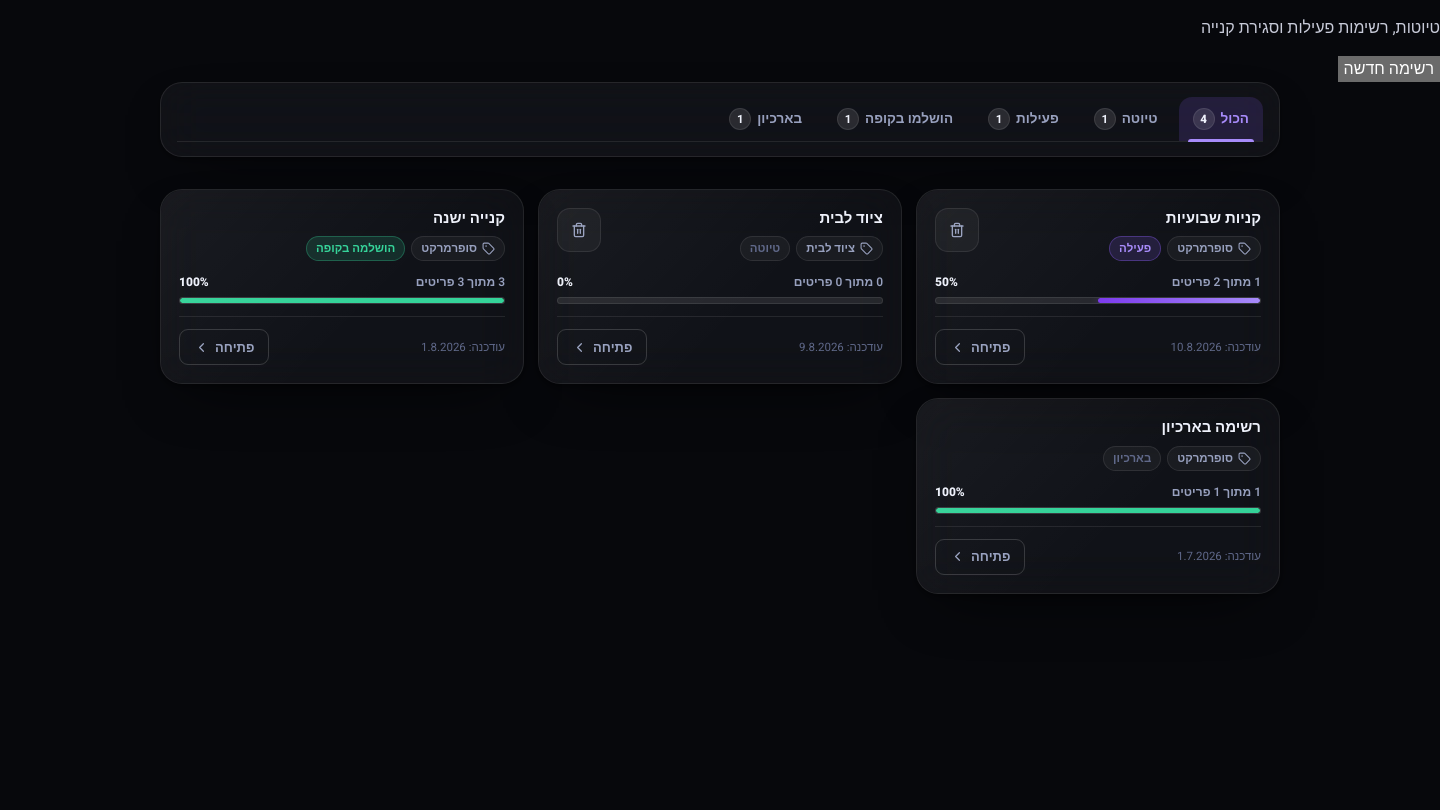
Test: Shopping checkout safety › previews confirmed receipt actuals instead of checkbox totals without posting on review
This screenshot has width=1440, height=810.
Click the button "פתיחה" next to "10.8.2026": x=980, y=347 [935,329,1025,365]
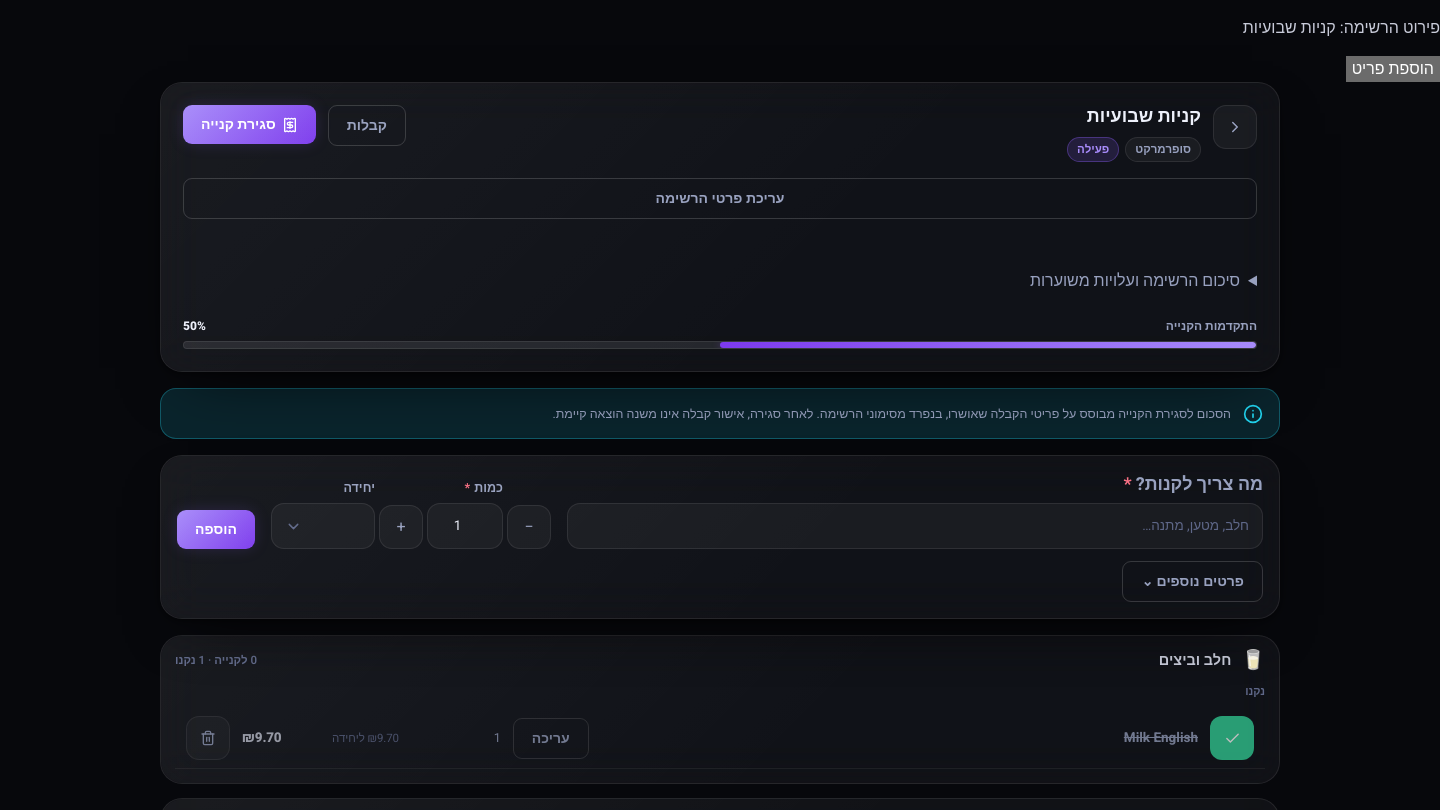
Click the button "סגירת קנייה": x=249, y=124 [183,105,316,144]
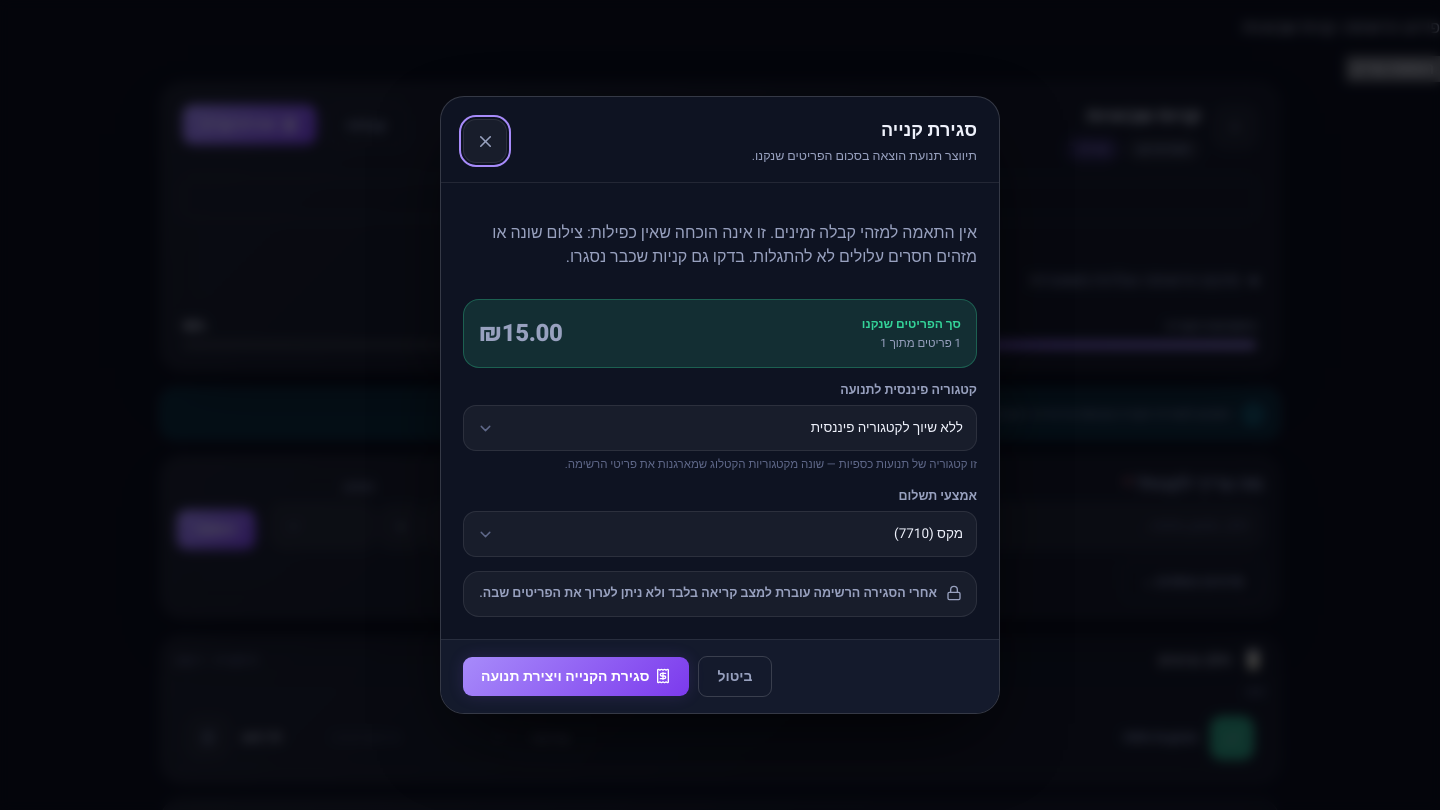
Check: the text "₪15.00" is shown, box [479,316,563,350]
